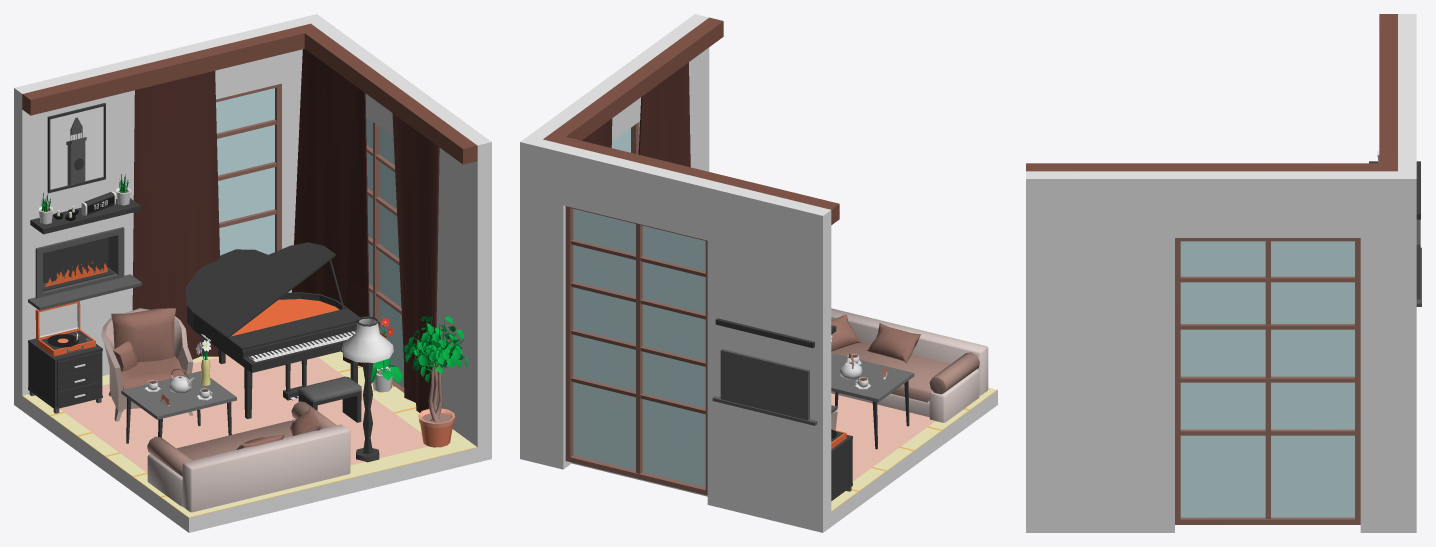
The model's file is room_23.glb.
3 renders of one model, left to right at view 1: azimuth 30°, elevation 25°; view 2: azimuth 150°, elevation 25°; view 3: azimuth 270°, elevation 25°, orthographic. The views are drawn at different scales.
Visible parts, largest first — view 1: Curtains_008.001, musical_instrument_011.001, Walls_006.053, Curtains_008.003, carpet_007.004, sofa_004.002, window_031.004, Curtains_008.002, Walls_010.004, Walls_021.005, window_031.003, armchair_017.001 (+19 smaller); view 2: window_031.004, Walls_006.058, Walls_006.051, sofa_004.002, Walls_006.059, Walls_006.056, Walls_006.055, Walls_006.052, tv_wall_025.001, Walls_021.006, Walls_006.057, Curtains_008.002 (+10 smaller); view 3: Walls_006.053, window_031.003, Walls_006.052, Walls_006.054, Walls_021.006, Walls_021.005, Walls_006.056, Walls_006.058, tv_wall_025.001.
Part boxes in pixels (bbox=[...]): Curtains_008.001: bbox=[132, 71, 219, 359]; musical_instrument_011.001: bbox=[185, 242, 360, 418]; Walls_006.053: bbox=[411, 93, 491, 462]; Curtains_008.003: bbox=[292, 49, 369, 366]; carpet_007.004: bbox=[59, 355, 428, 472]; sofa_004.002: bbox=[147, 401, 350, 512]; window_031.004: bbox=[216, 83, 281, 255]; Curtains_008.002: bbox=[392, 113, 439, 412]; Walls_010.004: bbox=[22, 366, 477, 532]; Walls_021.005: bbox=[22, 27, 304, 115]; window_031.003: bbox=[366, 117, 404, 392]; armchair_017.001: bbox=[101, 308, 193, 421]; window_031.004: bbox=[565, 206, 707, 495]; Walls_006.058: bbox=[722, 185, 816, 369]; Walls_006.051: bbox=[534, 139, 571, 469]; sofa_004.002: bbox=[831, 308, 988, 422]; Walls_006.059: bbox=[722, 403, 808, 529]; Walls_006.056: bbox=[563, 146, 715, 240]; Walls_006.055: bbox=[808, 206, 831, 532]; Walls_006.052: bbox=[520, 124, 558, 462]; tv_wall_025.001: bbox=[712, 349, 837, 425]; Walls_021.006: bbox=[543, 17, 723, 142]; Walls_006.057: bbox=[707, 182, 729, 508]; Curtains_008.002: bbox=[638, 62, 690, 167]; Walls_006.053: bbox=[1026, 171, 1174, 532]; window_031.003: bbox=[1175, 238, 1360, 524]; Walls_006.052: bbox=[1360, 171, 1416, 532]; Walls_006.054: bbox=[1175, 171, 1360, 237]; Walls_021.006: bbox=[1026, 163, 1397, 171]; Walls_021.005: bbox=[1379, 14, 1397, 163]; Walls_006.056: bbox=[1398, 77, 1416, 155]; Walls_006.058: bbox=[1398, 22, 1416, 68]; tv_wall_025.001: bbox=[1416, 219, 1421, 306].
Size of the model in its own units: 4.2 by 4.2 by 4.26.
Materials: 1 (1 with a texture image).
